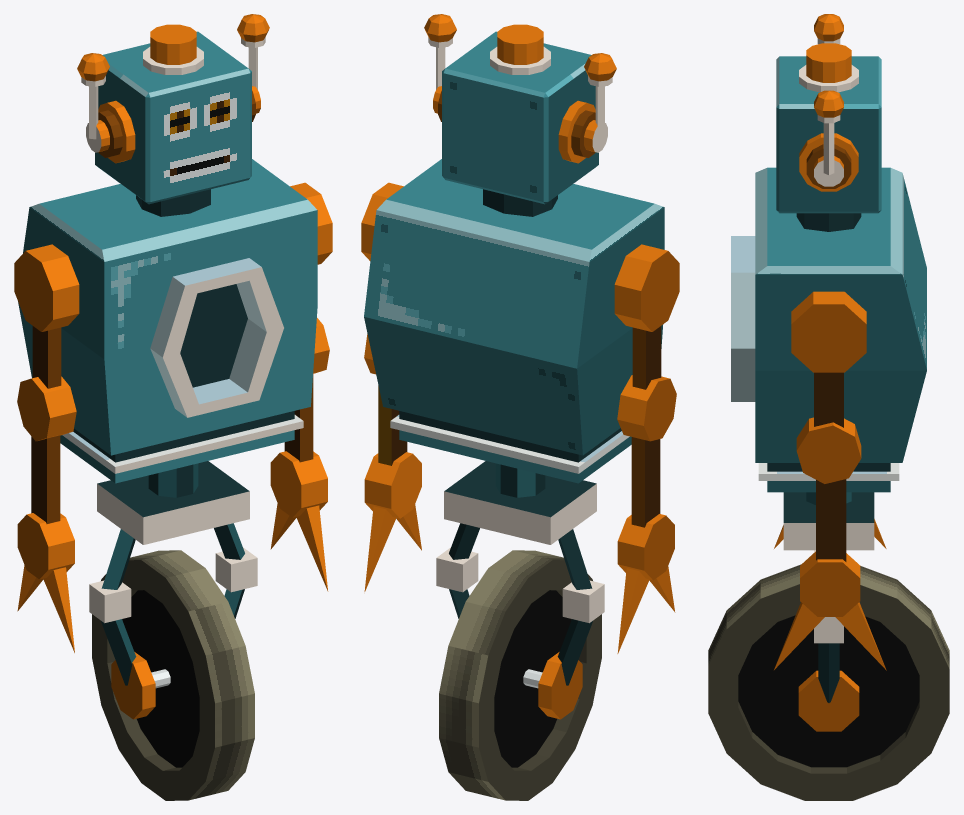
The model's file is robot1.gltf.
3 renders of one model, left to right at view 1: azimuth 30°, elevation 25°; view 2: azimuth 150°, elevation 25°; view 3: azimuth 270°, elevation 25°, orthographic.
Parts seen in each view (by area): view 1: body, wheel, head-cube, base, hand (×2), shoulder (×2), right_leg, forearm (×2), elbow (×2), right-ear, top-button, left_leg (+3 smaller); view 2: body, wheel, head-cube, base, hand (×2), shoulder (×2), right_leg, forearm (×2), right-ear, elbow, top-button, left_leg (+3 smaller); view 3: body, wheel, head-cube, shoulder, left_leg, left-ear, base, elbow, hand, forearm, top-button, bicep (+3 smaller).
Part boxes in pixels (left/top/right/bottom): body: left=18, top=159, right=317, bottom=483; wheel: left=92, top=550, right=254, bottom=800; head-cube: left=95, top=31, right=251, bottom=216; base: left=97, top=461, right=249, bottom=544; hand (×2): left=17, top=451, right=327, bottom=579; shoulder (×2): left=14, top=182, right=332, bottom=331; right_leg: left=89, top=529, right=155, bottom=719; forearm (×2): left=31, top=374, right=313, bottom=523; elbow (×2): left=17, top=318, right=329, bottom=441; right-ear: left=77, top=53, right=135, bottom=163; top-button: left=143, top=24, right=203, bottom=74; left_leg: left=214, top=523, right=257, bottom=618; body: left=364, top=159, right=664, bottom=483; wheel: left=439, top=550, right=601, bottom=800; head-cube: left=442, top=31, right=598, bottom=216; base: left=444, top=461, right=596, bottom=544; hand (×2): left=364, top=452, right=674, bottom=580; shoulder (×2): left=361, top=182, right=679, bottom=331; right_leg: left=538, top=529, right=604, bottom=719; forearm (×2): left=378, top=385, right=660, bottom=527; right-ear: left=558, top=53, right=616, bottom=163; elbow: left=617, top=375, right=676, bottom=441; top-button: left=490, top=24, right=550, bottom=74; left_leg: left=436, top=523, right=479, bottom=618; body: left=731, top=167, right=926, bottom=492; wheel: left=708, top=564, right=949, bottom=800; head-cube: left=776, top=56, right=881, bottom=231; shoulder: left=791, top=291, right=866, bottom=372; left_leg: left=798, top=617, right=859, bottom=731; left-ear: left=799, top=90, right=858, bottom=191; base: left=783, top=492, right=874, bottom=550; elbow: left=796, top=417, right=861, bottom=483; hand: left=800, top=551, right=860, bottom=616; forearm: left=816, top=479, right=846, bottom=561; top-button: left=799, top=43, right=858, bottom=92; bicep: left=814, top=372, right=843, bottom=427.
Size of the model in its own units: 2.62 by 6.75 by 2.
Materials: 1 (1 with a texture image).
